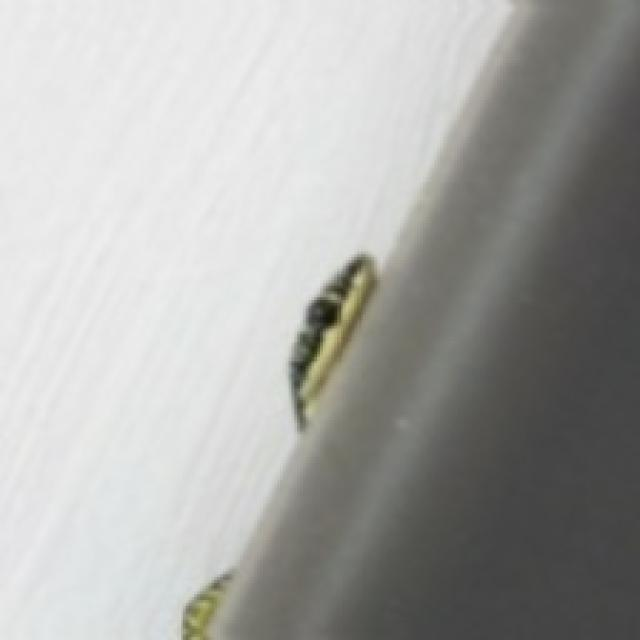paradise tree snake: (289, 254, 374, 426), (183, 574, 229, 637)
